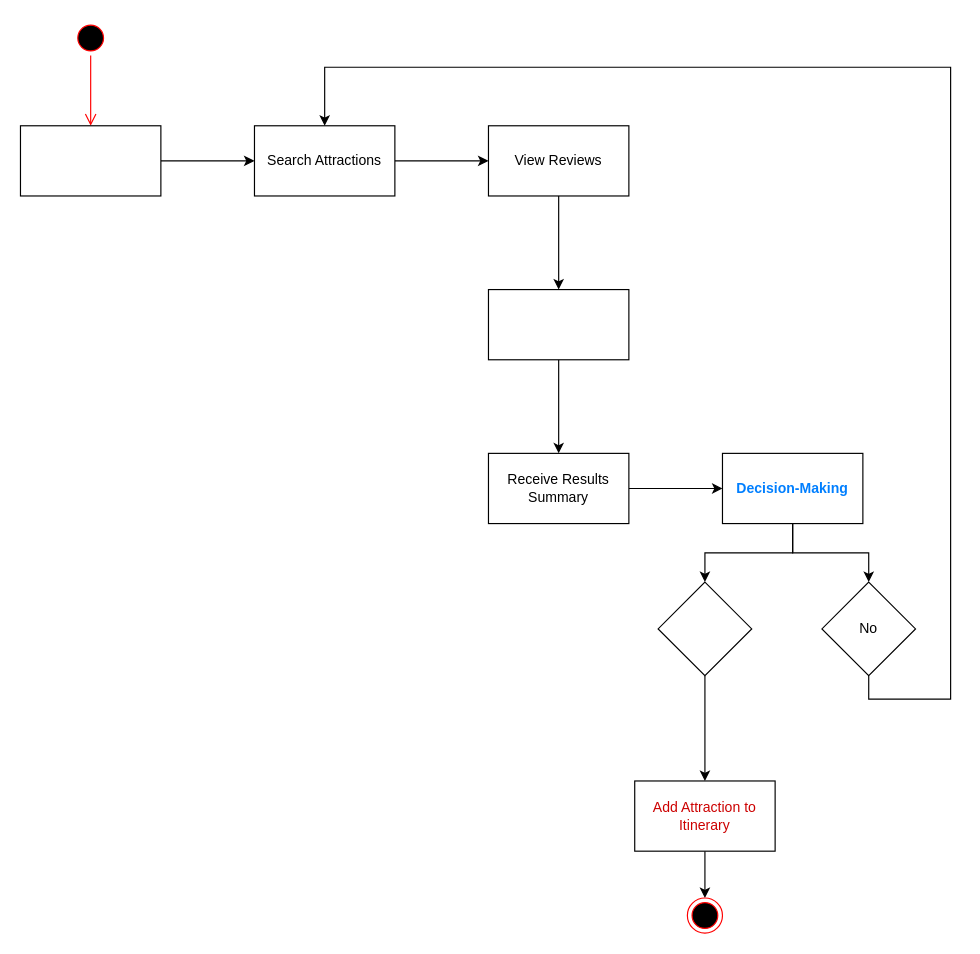
Image size: 980x954. Some labels were removed from this diagram. The shapes that lost their labels are listed below. From the top down, each one's centre as x and y in pixels, then its label:
At pixel 90 160: "Open APP".
At pixel 558 324: "Choose Specific Ones to Verify Credibility".
At pixel 704 628: "Yes".
